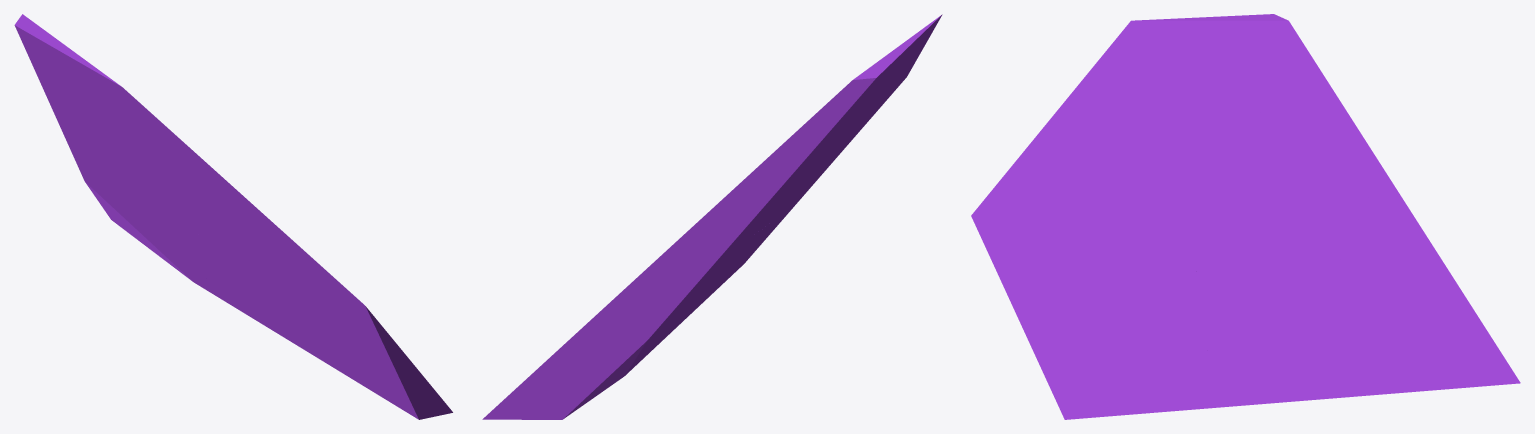
The model's file is Window_70_3_chunks.fbx.
3 views of the same model, side by side, from view 1: azimuth 30°, elevation 25°; view 2: azimuth 150°, elevation 25°; view 3: azimuth 270°, elevation 25° (orthographic). The views are drawn at different scales.
Parts seen in each view (by area): view 1: Window_70_3_1, Window_70_3_0, Window_70_3_5, Window_70_3_4, Window_70_3_3, Window_70_3_6, Window_70_3_2; view 2: Window_70_3_0, Window_70_3_1, Window_70_3_2, Window_70_3_5, Window_70_3_3, Window_70_3_4; view 3: Window_70_3_1, Window_70_3_2, Window_70_3_6, Window_70_3_0, Window_70_3_5, Window_70_3_4.
Boxes of the visible parts, x1=… form: Window_70_3_1: x1=14, y1=20, x2=420, y2=383; Window_70_3_0: x1=33, y1=66, x2=188, y2=259; Window_70_3_5: x1=197, y1=233, x2=446, y2=414; Window_70_3_4: x1=235, y1=306, x2=452, y2=419; Window_70_3_3: x1=175, y1=227, x2=264, y2=307; Window_70_3_6: x1=163, y1=246, x2=233, y2=306; Window_70_3_2: x1=18, y1=14, x2=100, y2=130; Window_70_3_0: x1=482, y1=147, x2=815, y2=419; Window_70_3_1: x1=745, y1=14, x2=942, y2=241; Window_70_3_2: x1=704, y1=73, x2=866, y2=215; Window_70_3_5: x1=707, y1=205, x2=794, y2=290; Window_70_3_3: x1=647, y1=241, x2=745, y2=354; Window_70_3_4: x1=647, y1=257, x2=749, y2=354; Window_70_3_1: x1=971, y1=14, x2=1279, y2=345; Window_70_3_2: x1=1240, y1=17, x2=1381, y2=286; Window_70_3_6: x1=1233, y1=257, x2=1472, y2=400; Window_70_3_0: x1=1328, y1=167, x2=1520, y2=387; Window_70_3_5: x1=1030, y1=251, x2=1255, y2=403; Window_70_3_4: x1=1057, y1=341, x2=1301, y2=419.
Size of the model in its own units: 362 by 415 by 713.
